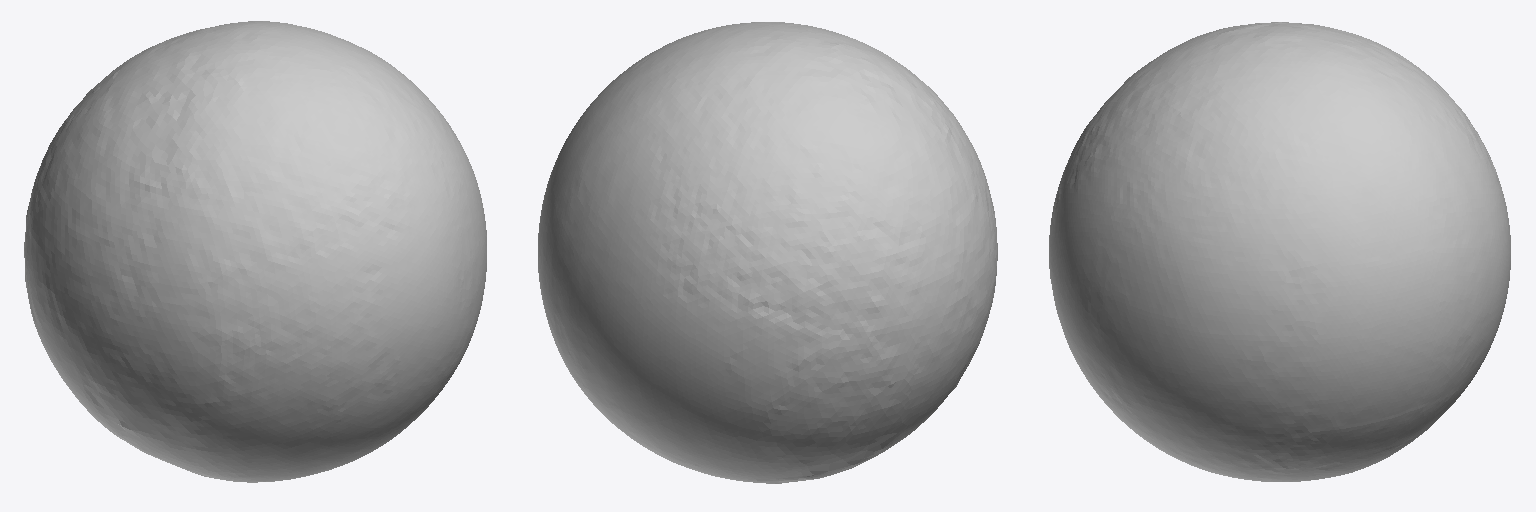
File: Gridtest_1_2_0.000001.obj
3 views of the same model, side by side, from view 1: azimuth 30°, elevation 25°; view 2: azimuth 150°, elevation 25°; view 3: azimuth 270°, elevation 25° (orthographic).
Bounding box in the file's own units: 300 × 304 × 299.